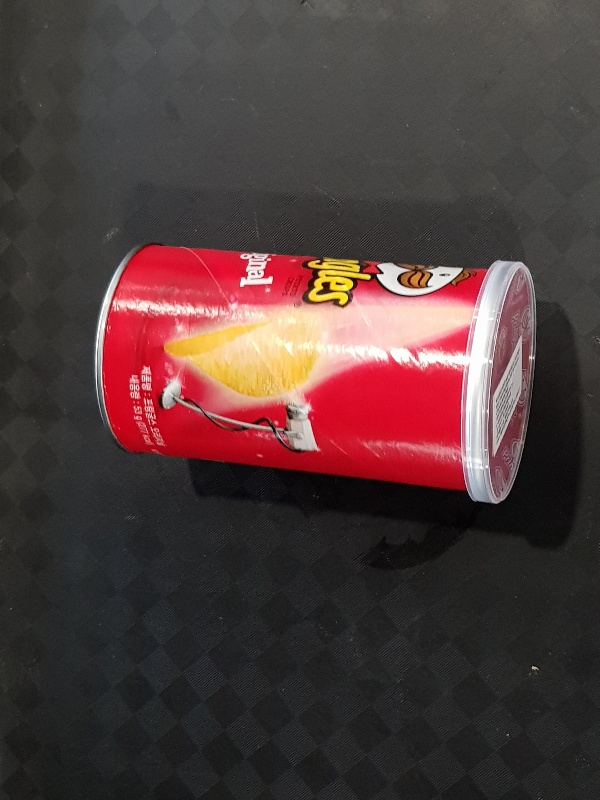Pringles Original: (93, 239, 537, 504)
